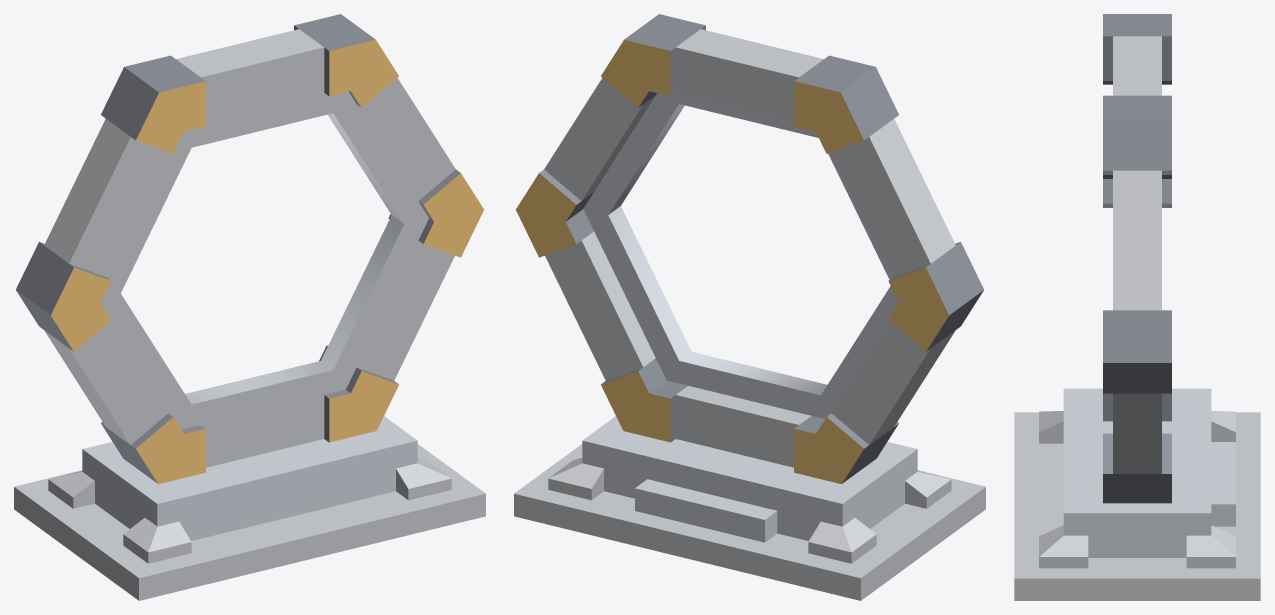
File: gate_complex.glb
3 renders of one model, left to right at view 1: azimuth 30°, elevation 25°; view 2: azimuth 150°, elevation 25°; view 3: azimuth 270°, elevation 25°, orthographic.
Parts seen in each view (by area): view 1: gate_complex; view 2: gate_complex; view 3: gate_complex.
Boxes of the visible parts, x1=… form: gate_complex: x1=14, y1=14, x2=485, y2=600; gate_complex: x1=514, y1=14, x2=985, y2=600; gate_complex: x1=1014, y1=14, x2=1260, y2=600.
Bounding box in the file's own units: 1 × 1.01 × 0.5.
